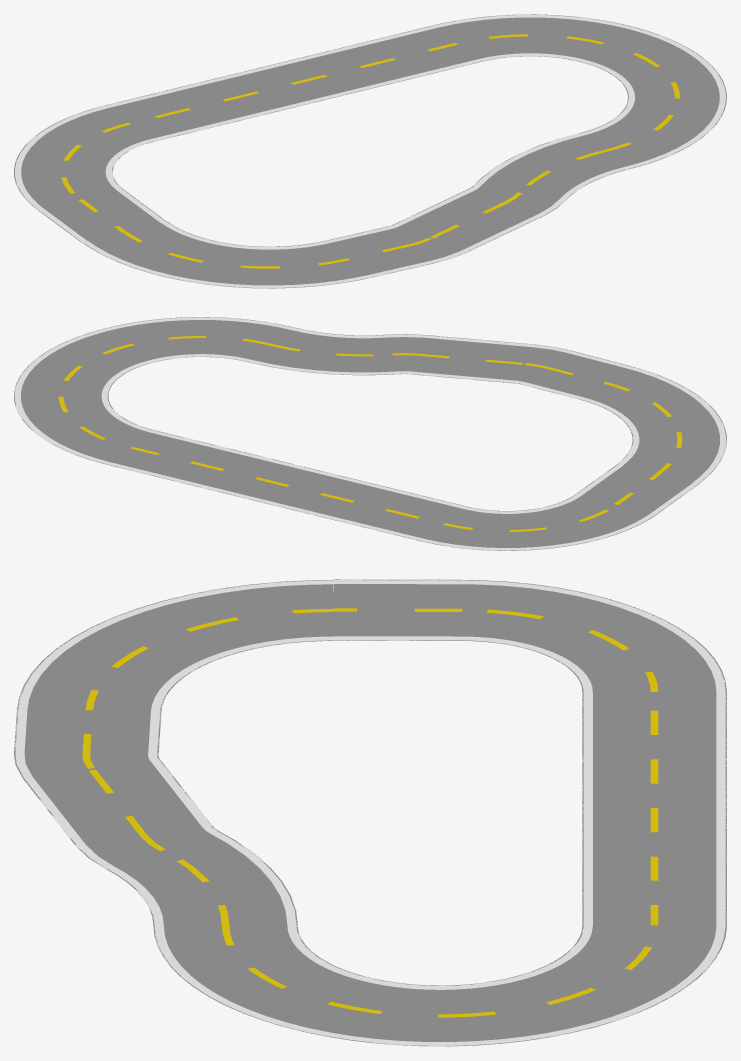
Rendered from track1.fbx.
3 renders of one model, top to bottom at view 1: azimuth 30°, elevation 25°; view 2: azimuth 150°, elevation 25°; view 3: azimuth 270°, elevation 25°, orthographic. The views are drawn at different scales.
Parts seen in each view (by area): view 1: road_arc_39, road_straight_64, road_arc_63, road_arc_65, road_arc_57, road_straight_59, road_straight_66, road_straight_62, road_arc_58, road_arc_61; view 2: road_arc_39, road_straight_64, road_arc_63, road_arc_65, road_arc_57, road_straight_59, road_straight_66, road_straight_62, road_arc_58, road_arc_61; view 3: road_arc_39, road_straight_64, road_arc_63, road_arc_65, road_arc_57, road_straight_59, road_straight_66, road_straight_62, road_arc_58, road_arc_61.
Part boxes in pixels (box(x1,y1,x2,y2)): road_arc_39: box(432, 14, 726, 169); road_straight_64: box(105, 25, 481, 141); road_arc_63: box(82, 222, 371, 288); road_arc_65: box(14, 105, 153, 209); road_arc_57: box(474, 133, 628, 199); road_straight_59: box(393, 189, 542, 252); road_straight_66: box(38, 189, 166, 242); road_straight_62: box(325, 226, 434, 277); road_arc_58: box(469, 185, 565, 216); road_arc_61: box(388, 225, 466, 262); road_arc_39: box(14, 317, 294, 464); road_straight_64: box(108, 430, 466, 540); road_arc_63: box(580, 365, 726, 483); road_arc_65: box(420, 494, 656, 550); road_arc_57: box(248, 327, 399, 375); road_straight_59: box(409, 335, 534, 383); road_straight_66: box(575, 464, 698, 514); road_straight_62: box(521, 350, 628, 399); road_arc_58: box(385, 334, 427, 374); road_arc_61: box(516, 344, 570, 384); road_arc_39: box(153, 925, 726, 1046); road_straight_64: box(582, 692, 726, 925); road_arc_63: box(17, 580, 333, 711); road_arc_65: box(462, 580, 726, 691); road_arc_57: box(107, 831, 297, 925); road_straight_59: box(23, 759, 211, 844); road_straight_66: box(333, 579, 462, 640); road_straight_62: box(14, 709, 161, 755); road_arc_58: box(75, 826, 218, 869); road_arc_61: box(14, 753, 159, 777).
Bounding box in the file's own units: 5767 × 0.00355 × 3721.
